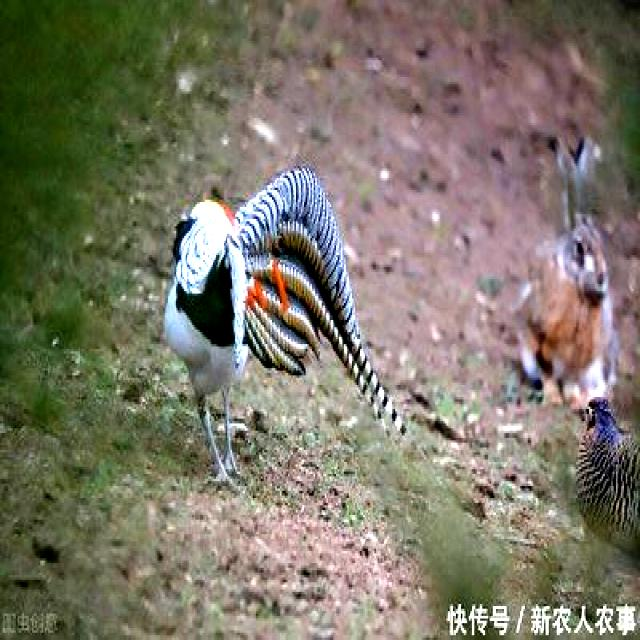Chrysolophus amherstiae: (235, 171, 398, 421)
